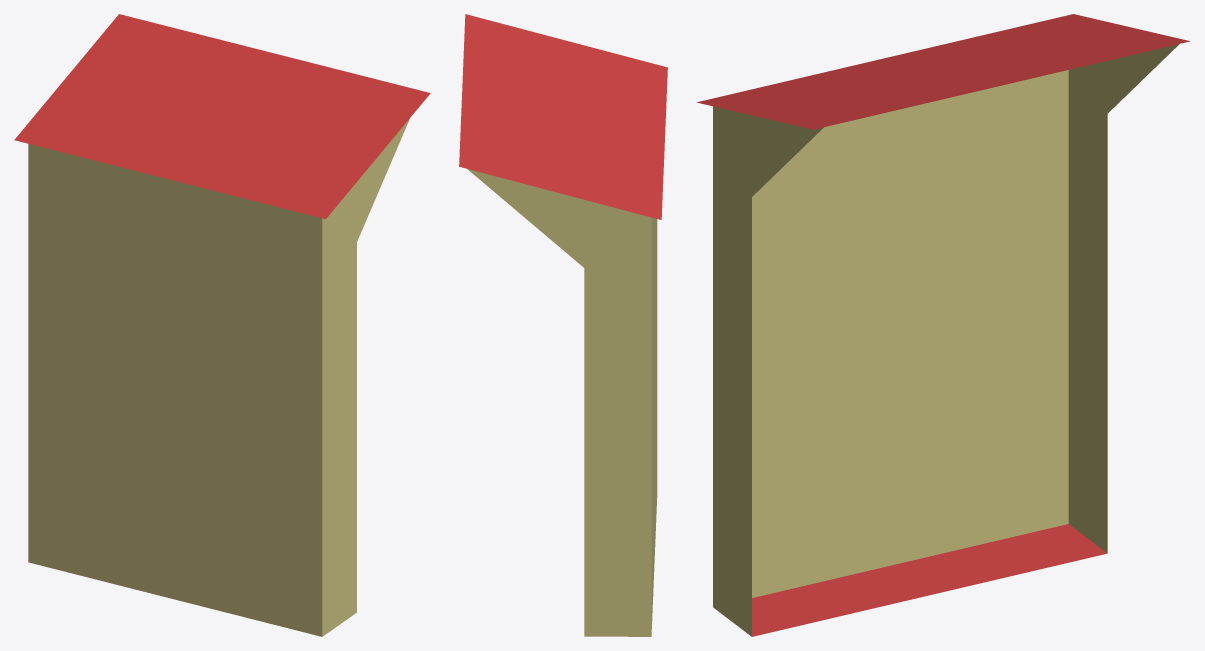
3 views of the same model, side by side, from view 1: azimuth 30°, elevation 25°; view 2: azimuth 150°, elevation 25°; view 3: azimuth 270°, elevation 25° (orthographic). The views are drawn at different scales.
Size of the model in its own units: 8.51 by 10.01 by 12.61.
